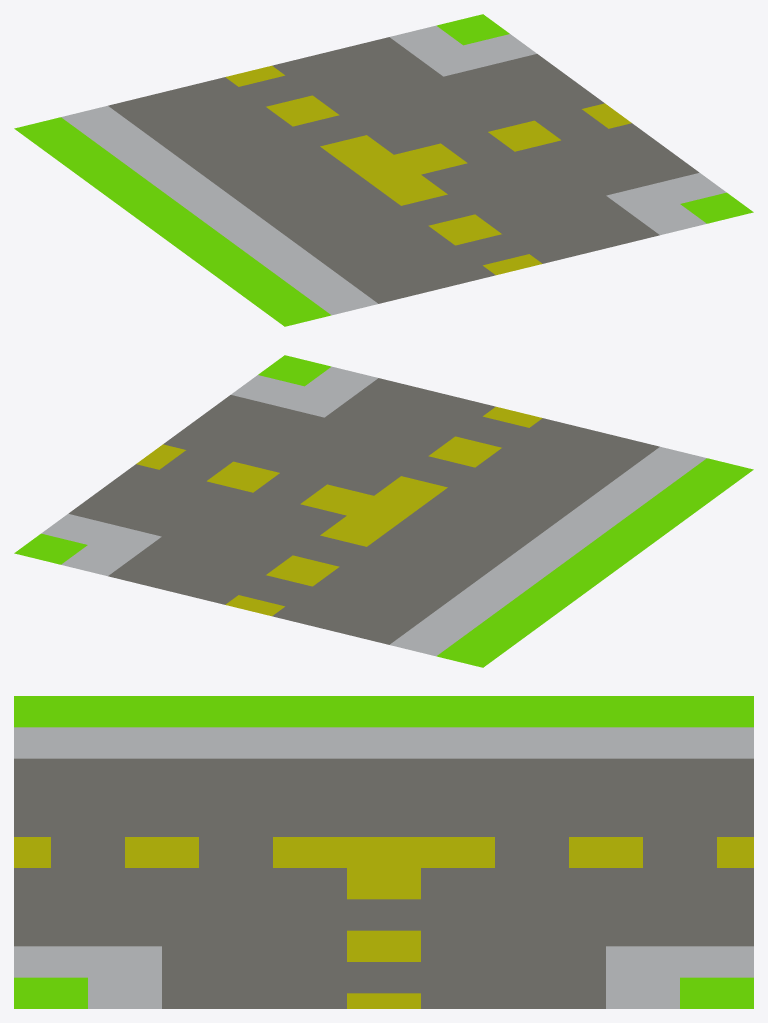
The model's file is Triroad Tile.fbx.
3 renders of one model, top to bottom at view 1: azimuth 30°, elevation 25°; view 2: azimuth 150°, elevation 25°; view 3: azimuth 270°, elevation 25°, orthographic. The views are drawn at different scales.
Parts seen in each view (by area): view 1: Tri-road Tile; view 2: Tri-road Tile; view 3: Tri-road Tile.
Boxes of the visible parts, <box> form: Tri-road Tile: <box>14,14,753,326</box>; Tri-road Tile: <box>14,355,753,667</box>; Tri-road Tile: <box>14,696,753,1008</box>.
Size of the model in its own units: 1000 by 0.000163 by 1000.
